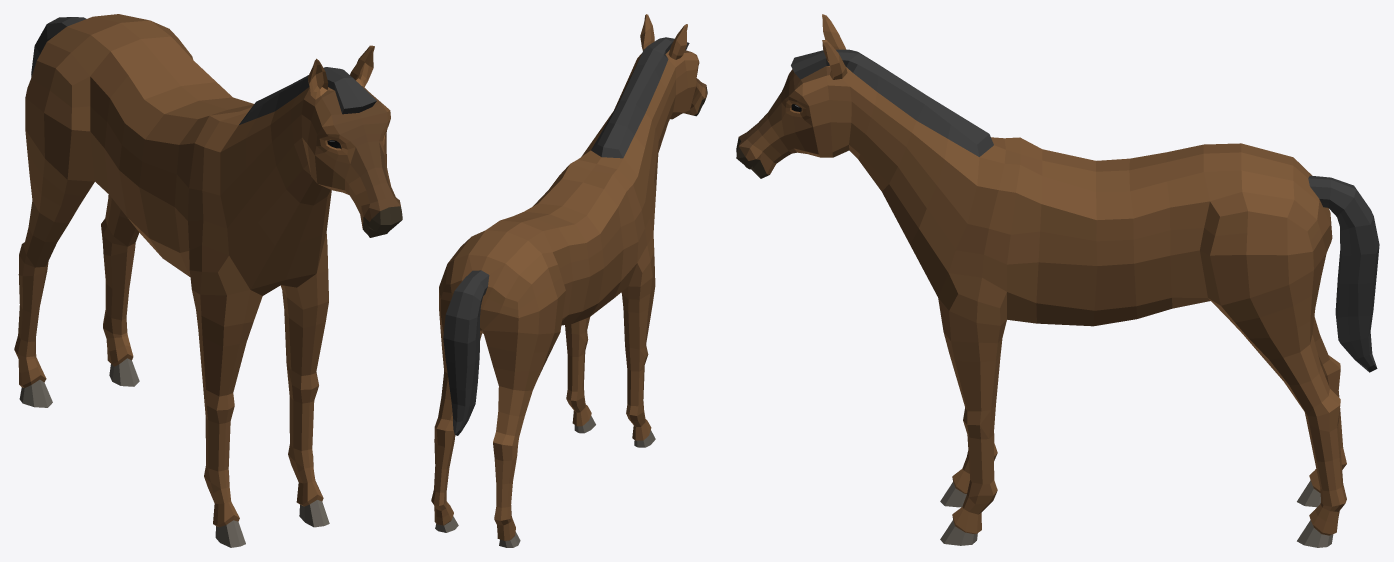
File: horse.glb
3 renders of one model, left to right at view 1: azimuth 30°, elevation 25°; view 2: azimuth 150°, elevation 25°; view 3: azimuth 270°, elevation 25°, orthographic. The views are drawn at different scales.
Parts seen in each view (by area): view 1: Horse; view 2: Horse; view 3: Horse.
Part boxes in pixels (<box>): Horse: <box>14,14,402,547</box>; Horse: <box>431,14,707,547</box>; Horse: <box>736,14,1379,547</box>.
Size of the model in its own units: 1.41 by 4.82 by 5.68.
